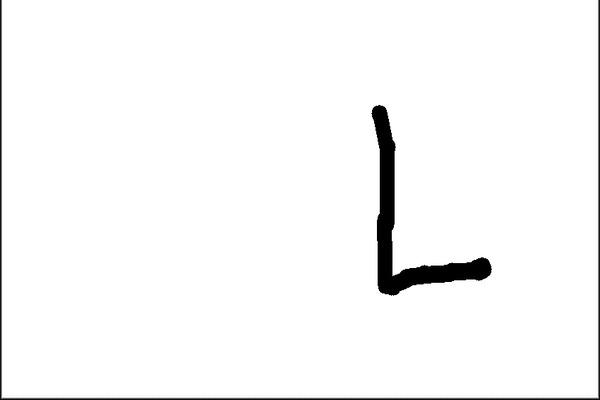L: (360, 99, 495, 302)
